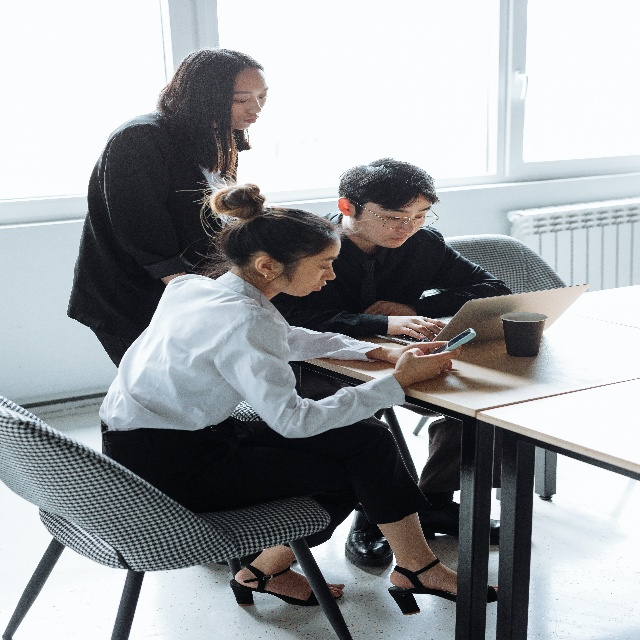Gafas: (348, 196, 440, 231)
Sin_guantes: (395, 346, 462, 384), (397, 340, 454, 372), (387, 314, 447, 343), (363, 299, 417, 316)
